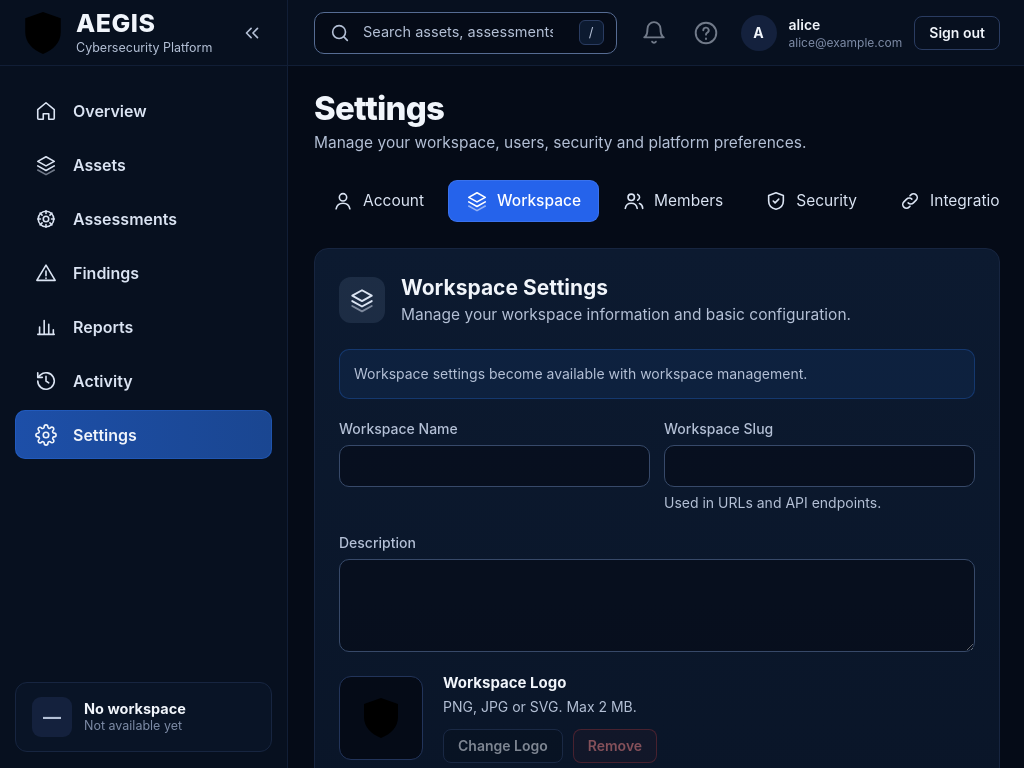
Scenario: profile › shows the email read-only, the creation date and the account status
The width and height of the screenshot is (1024, 768).
Step 1. Click the tab "Account" → (378, 201), box [314,180,442,222]
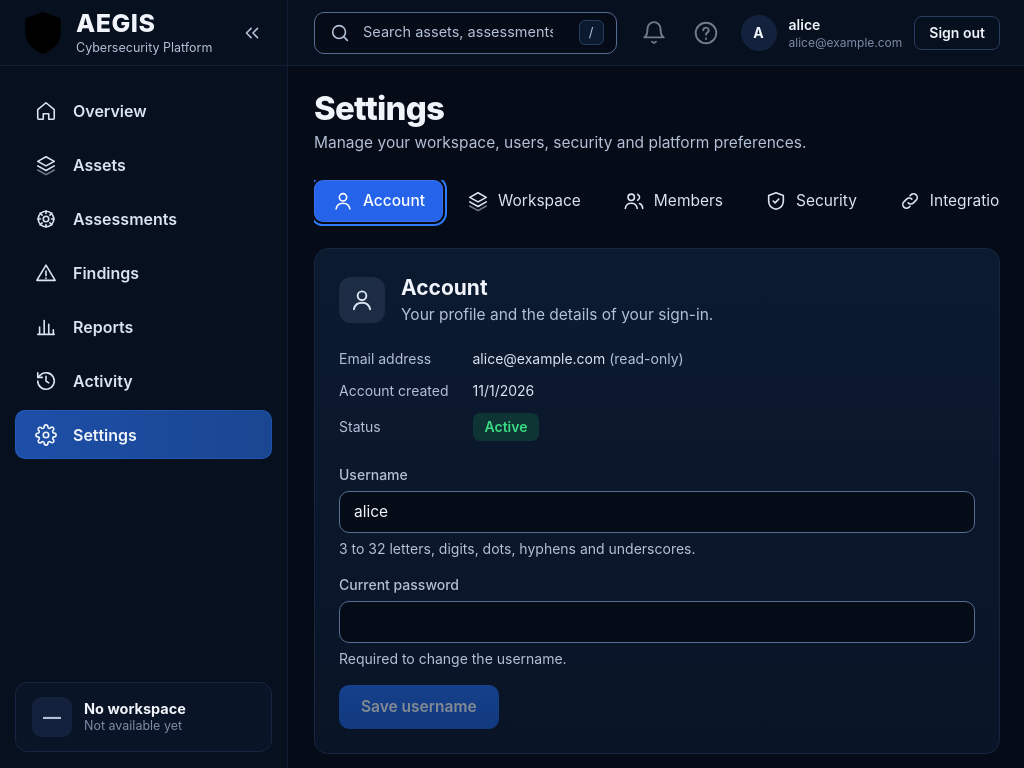
Check: the text "(read-only)" is shown, box [609,350,684,367]
Check: the text "alice@example.com" is shown, box [472,350,605,367]
Check: the text "Active" is shown, box [472,413,540,441]
